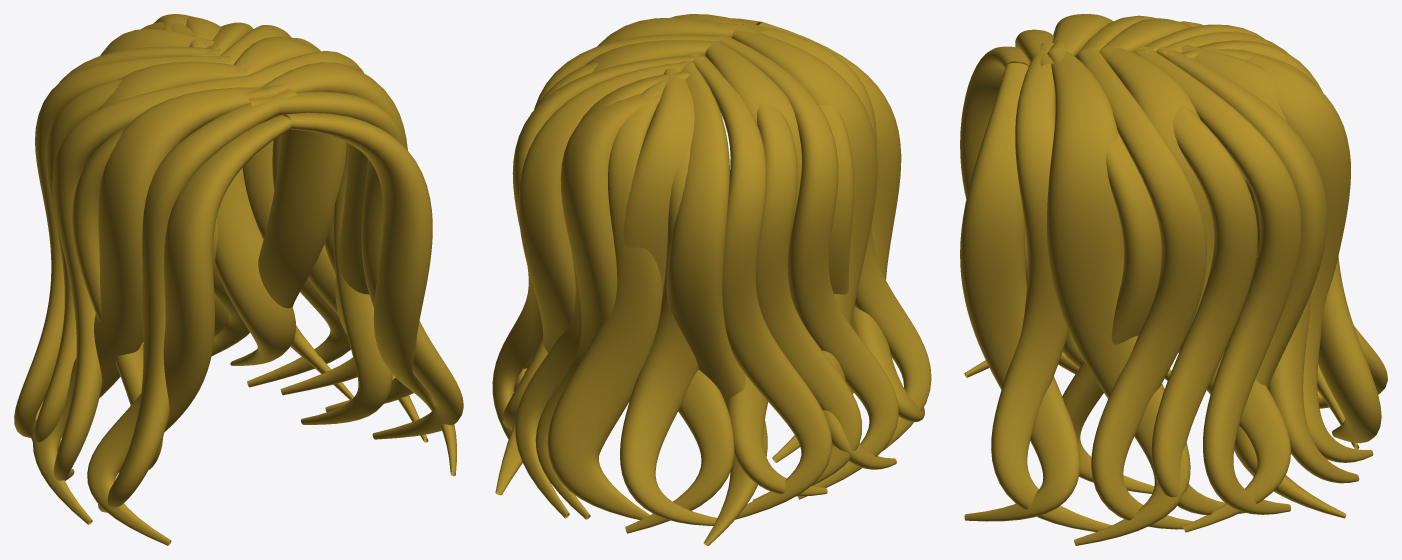
The model's file is Char-model_Female-H_W_SHORT.fbx.
3 views of the same model, side by side, from view 1: azimuth 30°, elevation 25°; view 2: azimuth 150°, elevation 25°; view 3: azimuth 270°, elevation 25° (orthographic). The views are drawn at different scales.
Visible parts, largest first — view 1: H3.025; view 2: H3.025; view 3: H3.025.
Boxes of the visible parts, left/top/right/bottom form: H3.025: left=14, top=14, right=463, bottom=545; H3.025: left=492, top=14, right=931, bottom=545; H3.025: left=960, top=14, right=1387, bottom=545.
Size of the model in its own units: 236 by 248 by 230.
